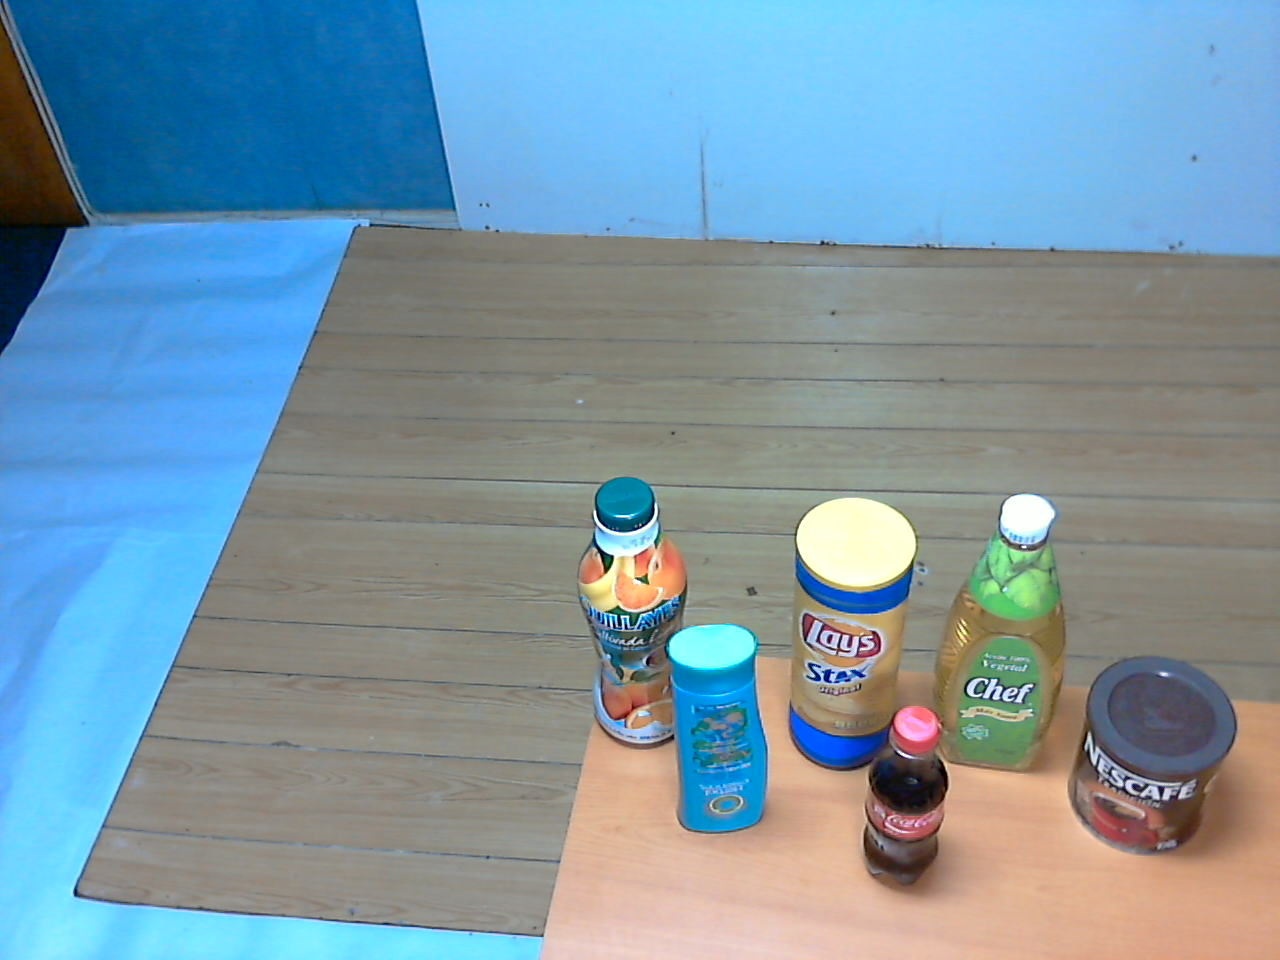aceite: (923, 475, 1079, 784)
balsamo: (661, 619, 791, 848)
cafe: (1067, 645, 1248, 867)
coca: (848, 699, 955, 899)
papas: (779, 485, 923, 785)
yogurt: (560, 469, 717, 757)
